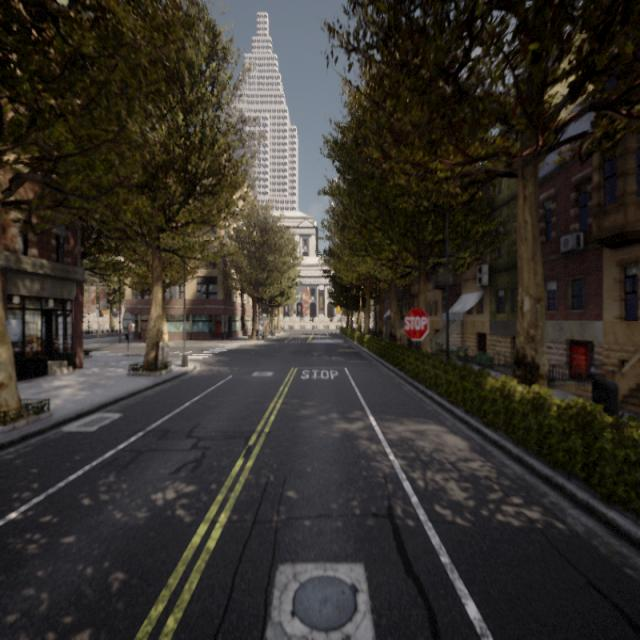stop sign: (402, 304, 431, 343)
